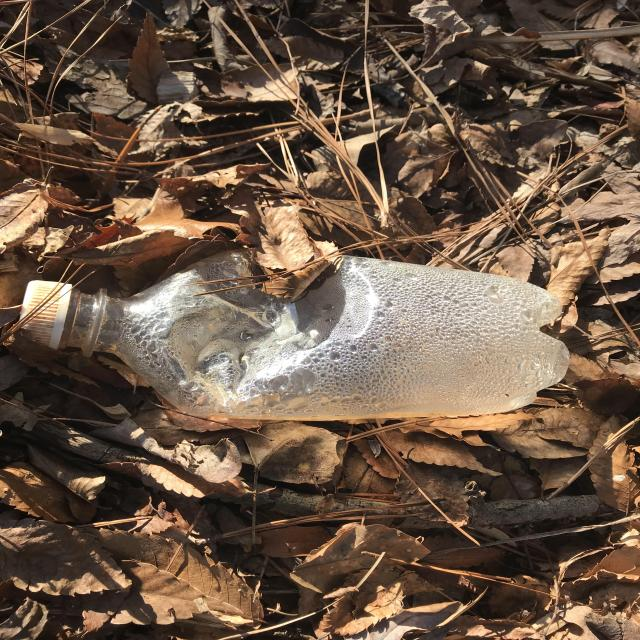litter: (17, 235, 579, 421)
